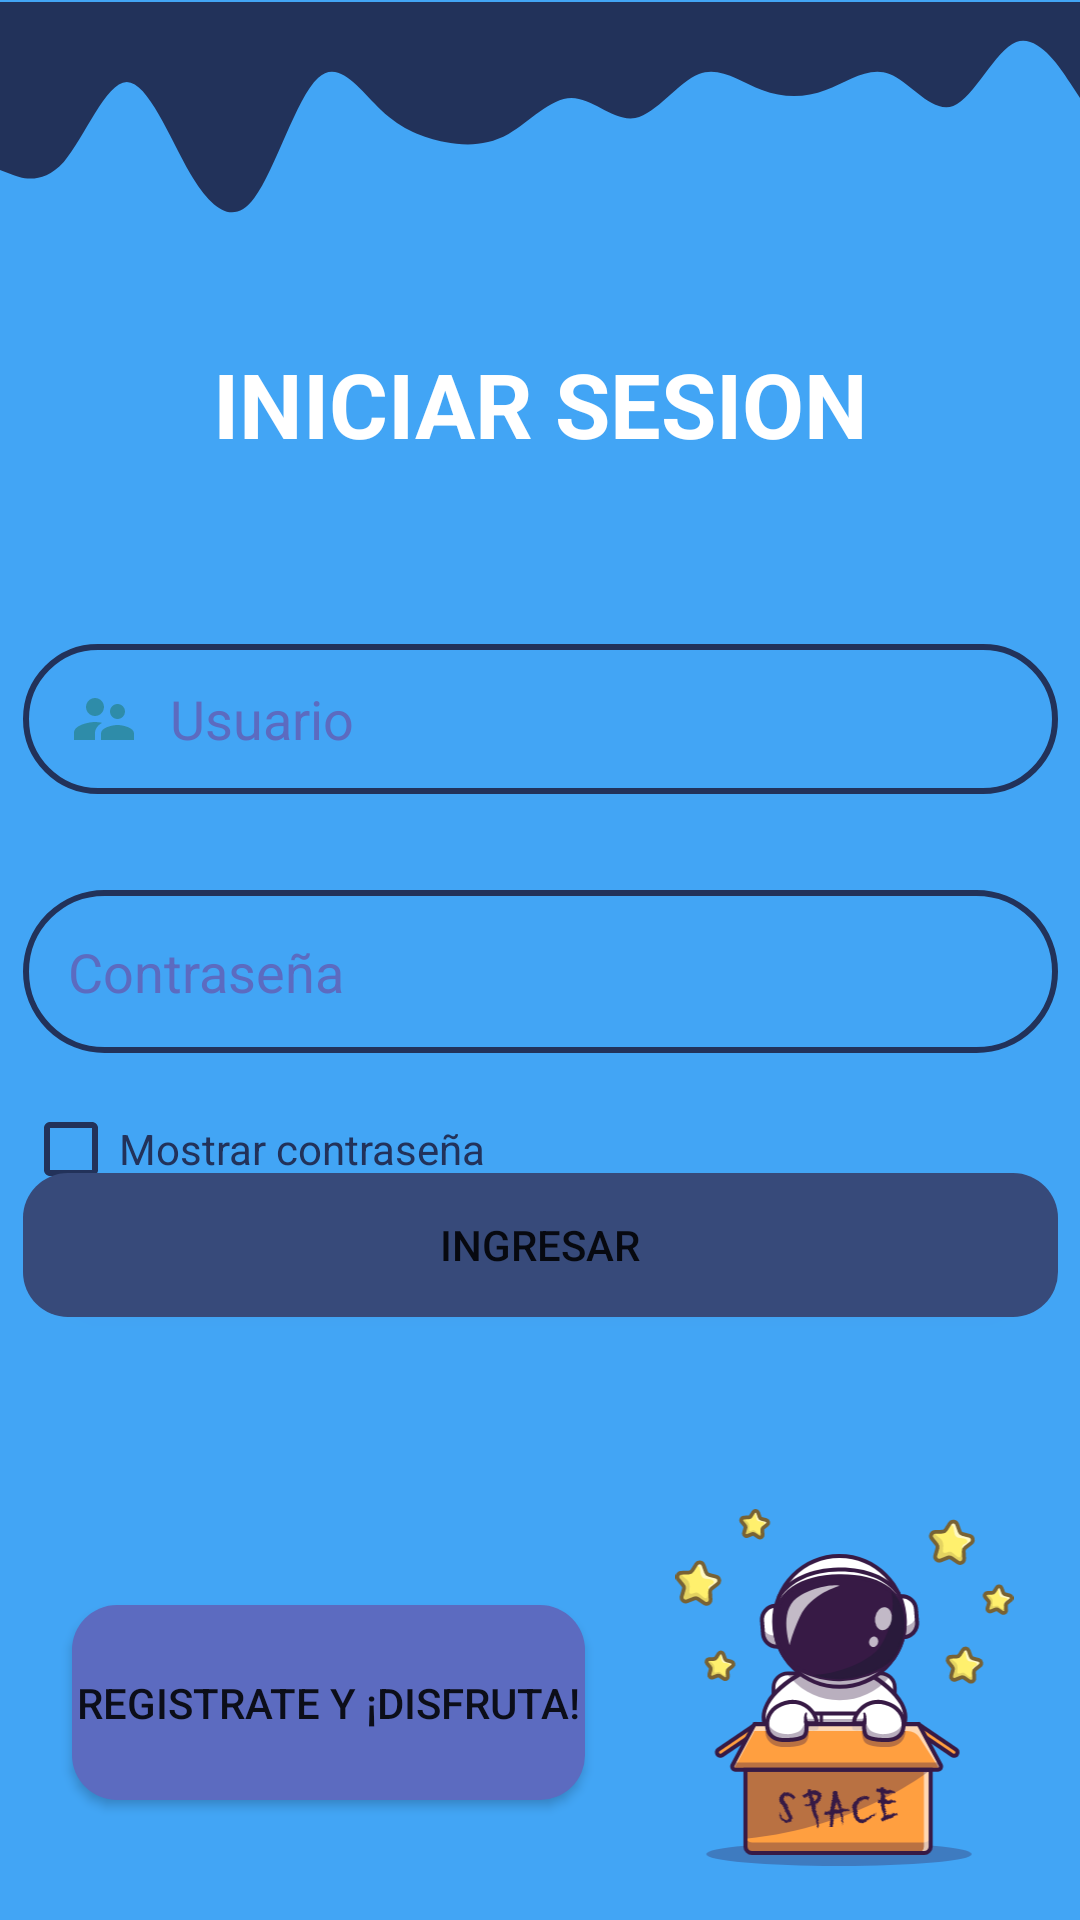

Screen size 1080 × 1920. Icon name, then its center in pixels as (x=x, y=y):
astronauta: (x=844, y=1687)
